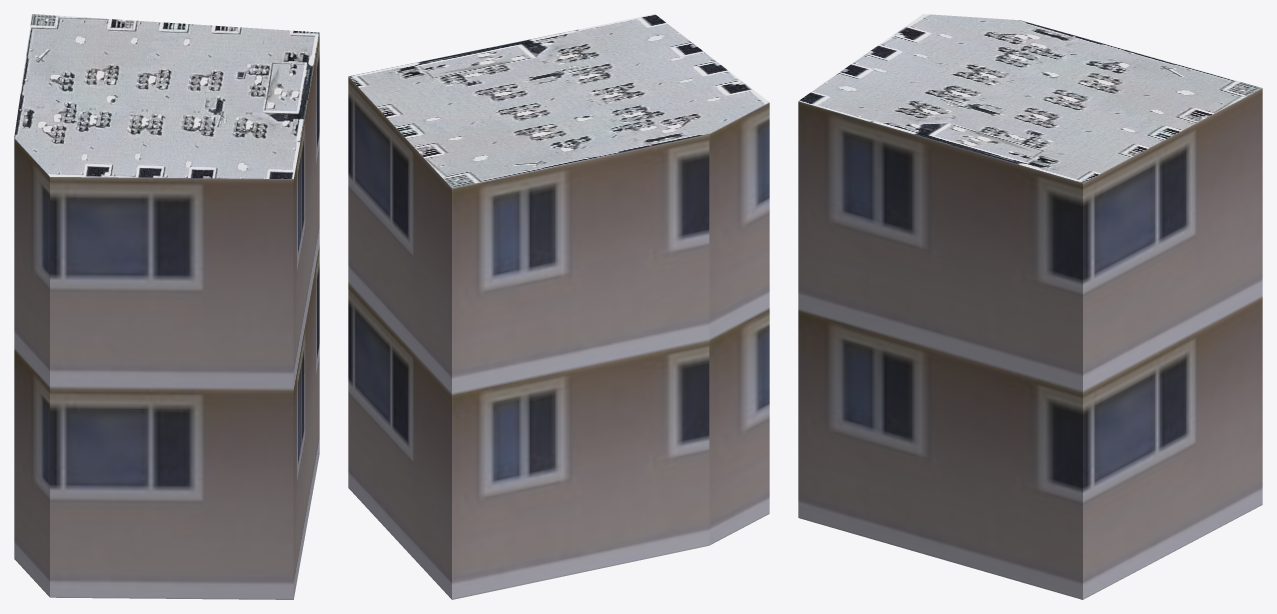
The model's file is ResTex__5264.fbx.
The picture shows the model from 3 angles, left to right: view 1: azimuth 30°, elevation 25°; view 2: azimuth 150°, elevation 25°; view 3: azimuth 270°, elevation 25°; orthographic projection. The views are drawn at different scales.
Visible parts, largest first — view 1: CityEngineMaterial_21_m, CityEngineMaterial_4_m; view 2: CityEngineMaterial_21_m, CityEngineMaterial_4_m; view 3: CityEngineMaterial_21_m, CityEngineMaterial_4_m.
Boxes of the visible parts, x1,y1,x2,y2 form: CityEngineMaterial_21_m: (14, 34, 319, 599); CityEngineMaterial_4_m: (14, 14, 319, 178); CityEngineMaterial_21_m: (348, 77, 769, 599); CityEngineMaterial_4_m: (348, 14, 769, 188); CityEngineMaterial_21_m: (798, 88, 1262, 599); CityEngineMaterial_4_m: (798, 14, 1262, 182).
Bounding box in the file's own units: 5.23 × 6 × 6.06.
2 materials, 2 textured.
